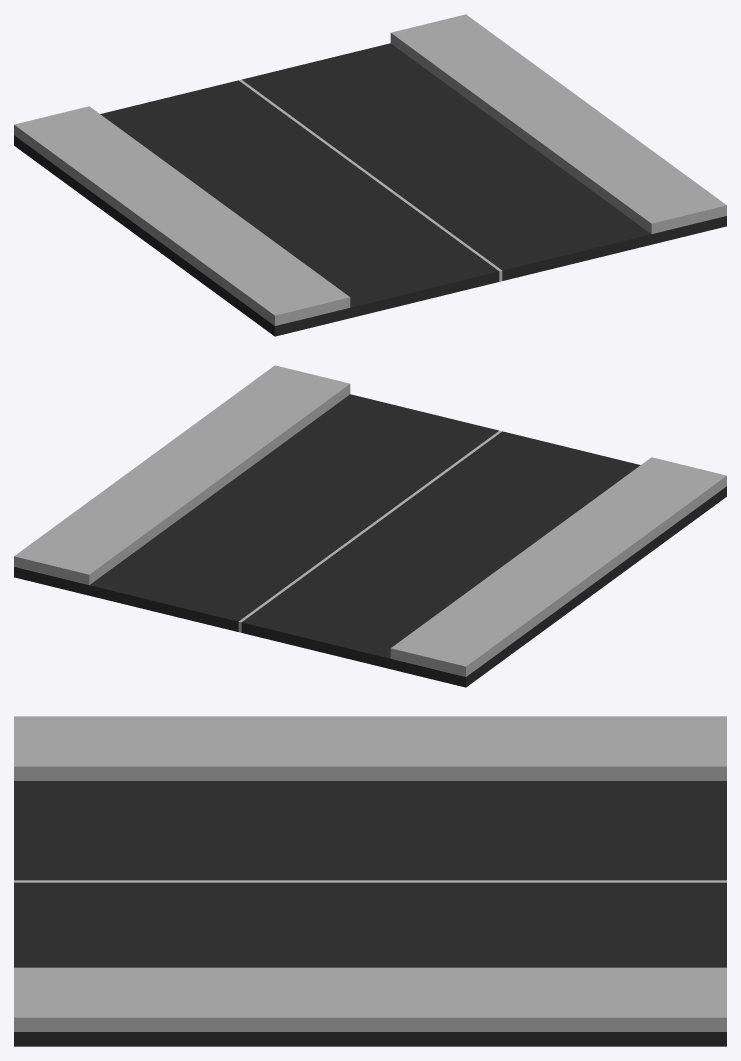
File: StraightRoad.glb
3 views of the same model, one above another, from view 1: azimuth 30°, elevation 25°; view 2: azimuth 150°, elevation 25°; view 3: azimuth 270°, elevation 25° (orthographic). The views are drawn at different scales.
Visible parts, largest first — view 1: StraightRoad; view 2: StraightRoad; view 3: StraightRoad.
Part boxes in pixels (x1=…): StraightRoad: x1=14, y1=14, x2=726, y2=336; StraightRoad: x1=14, y1=365, x2=726, y2=687; StraightRoad: x1=14, y1=716, x2=726, y2=1046.
Bounding box in the file's own units: 9 × 0.4 × 9.
Materials: 1 (1 with a texture image).
